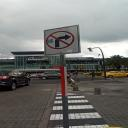NoVirarDireita: (38, 22, 81, 59)
